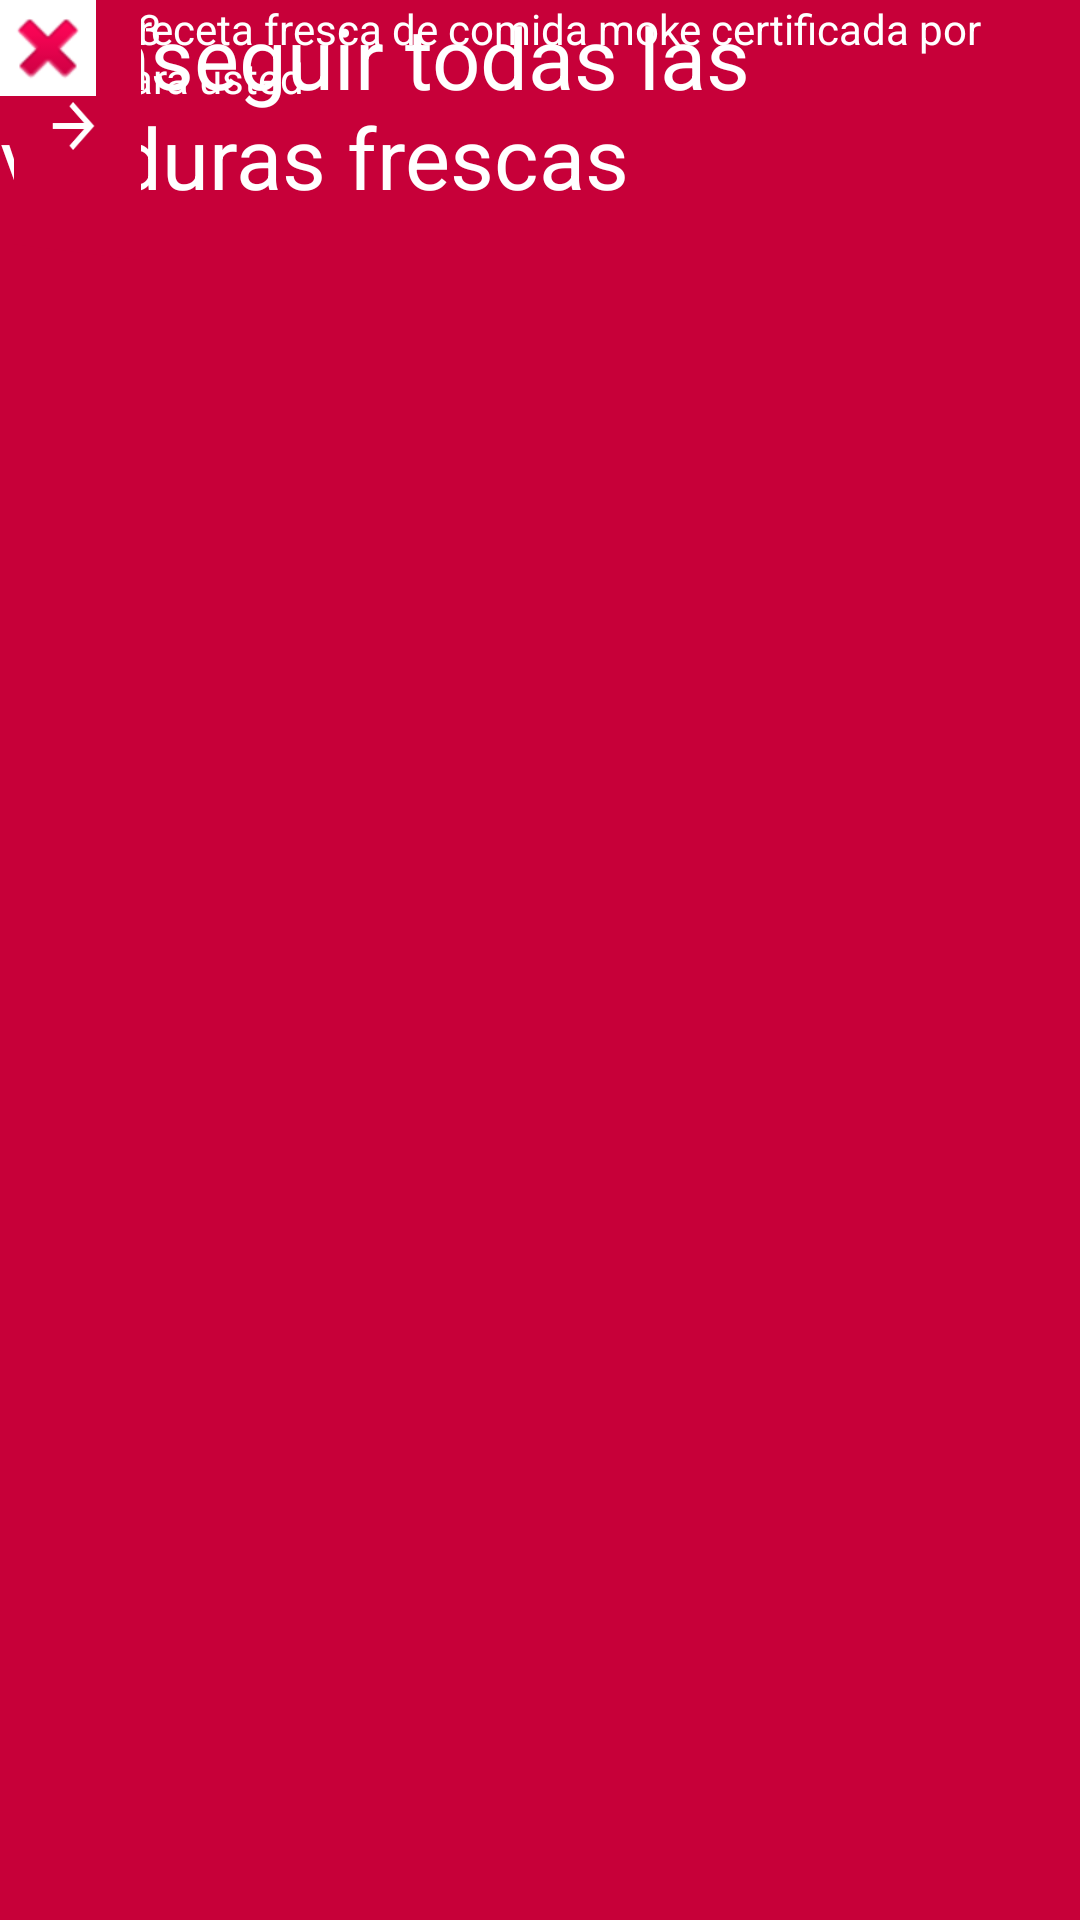

Named icons in this screenshot (1080px×1920px) and their bounding boxes, [x1,y1,x2,y2]:
delete: [0,0,96,96]
